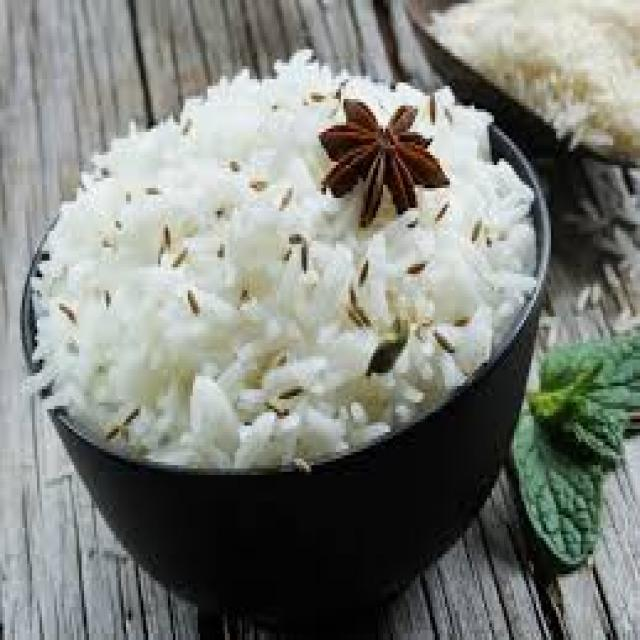White Rice: (28, 84, 512, 600)
